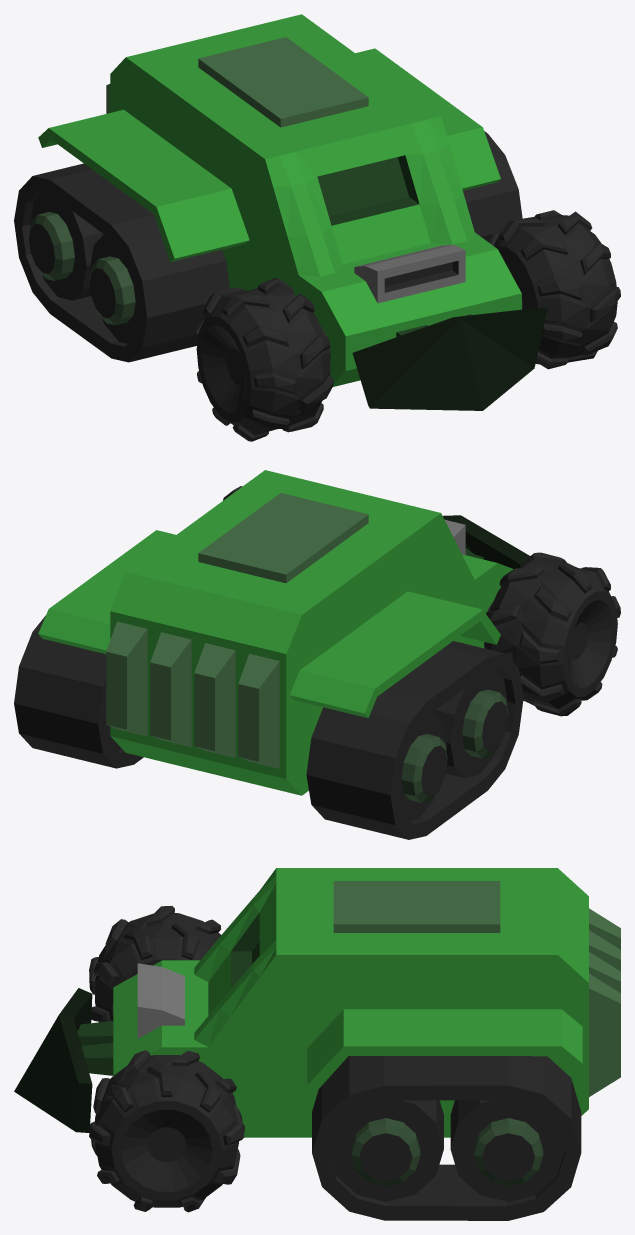
Rendered from dozer_base.fbx.
The picture shows the model from 3 angles, top to bottom: view 1: azimuth 30°, elevation 25°; view 2: azimuth 150°, elevation 25°; view 3: azimuth 270°, elevation 25°; orthographic projection.
Parts seen in each view (by area): view 1: Cube.087, Cylinder.084, Cylinder.082, Plane.009, Plane.010, Cylinder.079, Cylinder.081; view 2: Cube.087, Cylinder.082, Plane.009, Cylinder.084, Cylinder.081, Cylinder.079, Plane.010; view 3: Cube.087, Cylinder.084, Cylinder.082, Plane.009, Cylinder.081, Cylinder.079, Plane.010.
Boxes of the visible parts, <box> form: Cube.087: <box>106,14,521,386</box>; Cylinder.084: <box>193,210,620,441</box>; Cylinder.082: <box>14,131,522,362</box>; Plane.009: <box>38,48,500,261</box>; Plane.010: <box>352,308,547,410</box>; Cylinder.079: <box>29,193,103,300</box>; Cylinder.081: <box>89,234,139,343</box>; Cube.087: <box>106,470,513,795</box>; Cylinder.082: <box>14,615,523,839</box>; Plane.009: <box>38,530,500,718</box>; Cylinder.084: <box>223,486,620,716</box>; Cylinder.081: <box>433,670,508,778</box>; Cylinder.079: <box>106,712,447,820</box>; Plane.010: <box>443,515,529,568</box>; Cube.087: <box>77,868,620,1137</box>; Cylinder.084: <box>89,906,244,1212</box>; Cylinder.082: <box>312,1056,581,1220</box>; Plane.009: <box>307,1009,582,1091</box>; Cylinder.081: <box>329,1100,443,1201</box>; Cylinder.079: <box>450,1100,564,1201</box>; Plane.010: <box>14,988,92,1132</box>.
Size of the model in its own units: 180 by 99.01 by 238.
